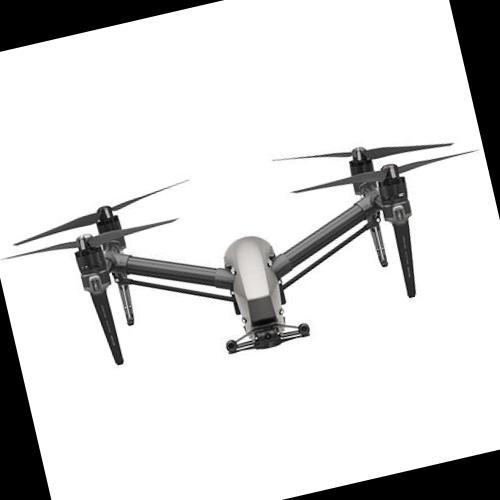drone: (0, 103, 500, 397)
